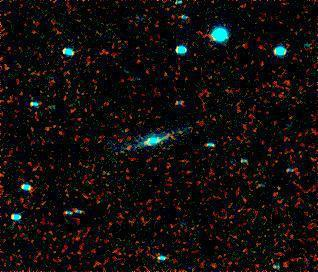star: (112, 133, 142, 163)
